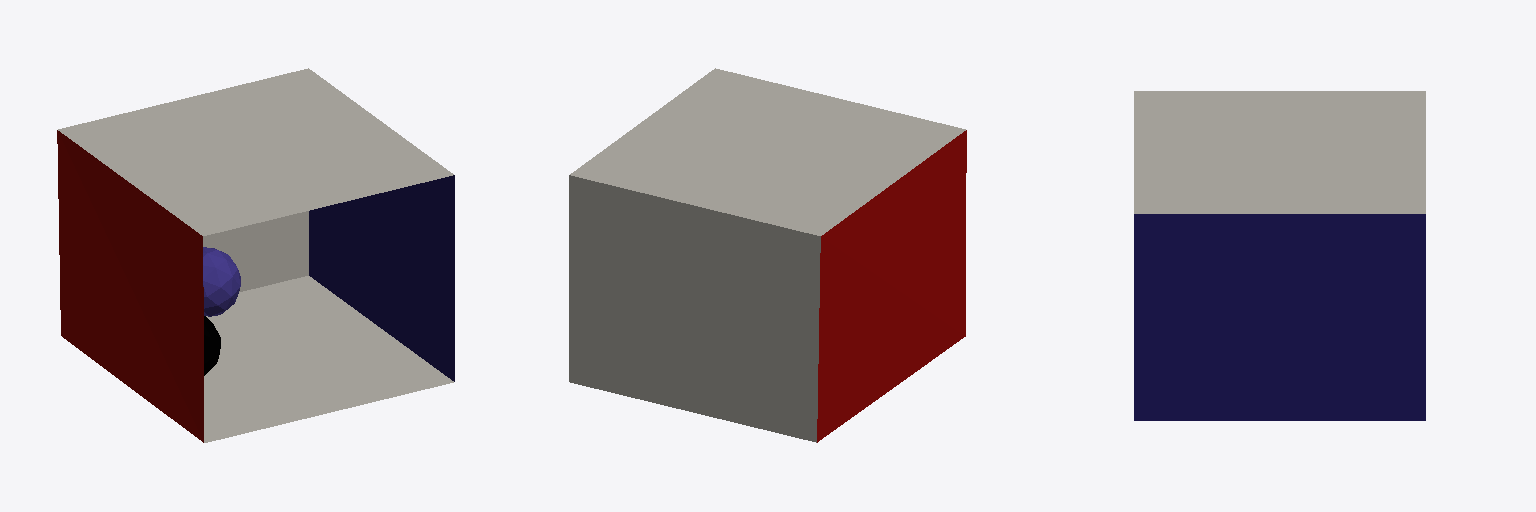
Rendered from CornellBox-Sphere-226.obj.
3 renders of one model, left to right at view 1: azimuth 30°, elevation 25°; view 2: azimuth 150°, elevation 25°; view 3: azimuth 270°, elevation 25°, orthographic.
Parts seen in each view (by area): view 1: ceiling, leftWall, floor, rightWall, backWall, leftSphere, rightSphere; view 2: backWall, ceiling, leftWall; view 3: rightWall, ceiling.
Part boxes in pixels (x1,y1,x2,y2): ceiling: (58, 68, 453, 235); leftWall: (57, 130, 203, 442); floor: (204, 276, 453, 442); rightWall: (309, 175, 454, 381); backWall: (203, 211, 308, 291); leftSphere: (203, 247, 240, 316); rightSphere: (204, 316, 220, 375); backWall: (569, 175, 820, 442); ceiling: (570, 68, 965, 235); leftWall: (817, 130, 966, 442); rightWall: (1134, 214, 1425, 420); ceiling: (1134, 91, 1425, 213).
Bounding box in the file's own units: 2.02 × 1.59 × 2.03.